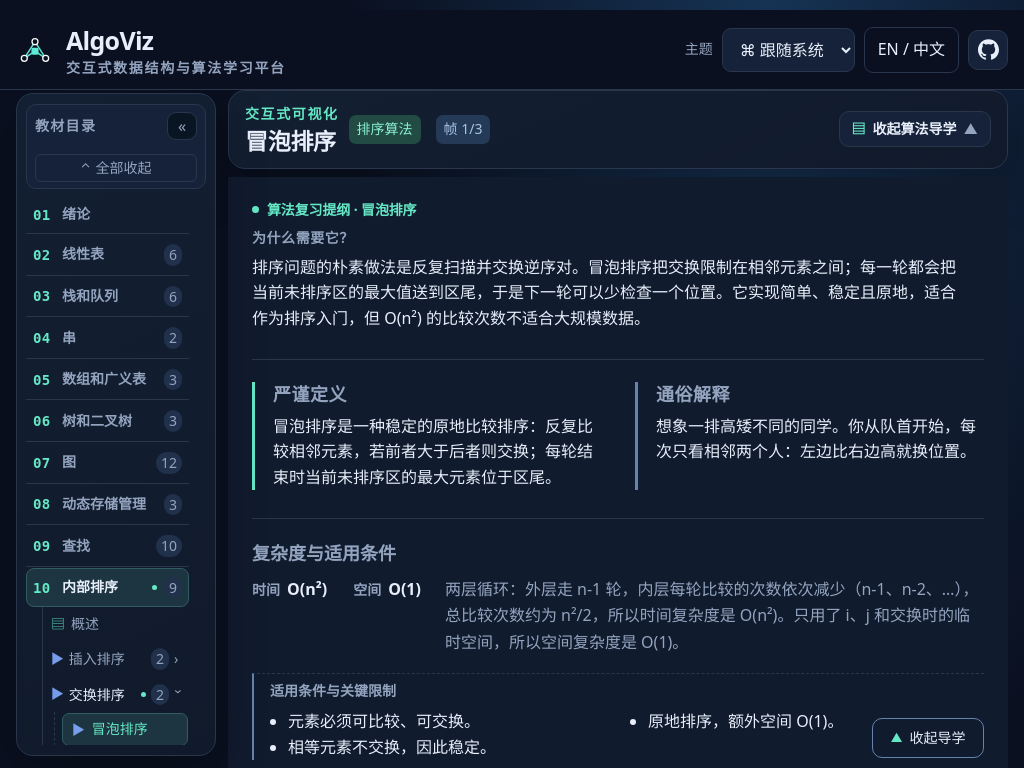
course navigation starts a fresh session › opens the guide for an unseen course and restores each course fold state
Later steps or results of the test are not shown.
Click the button with test id "guide-toggle": point(915, 129) [838,111,991,147]
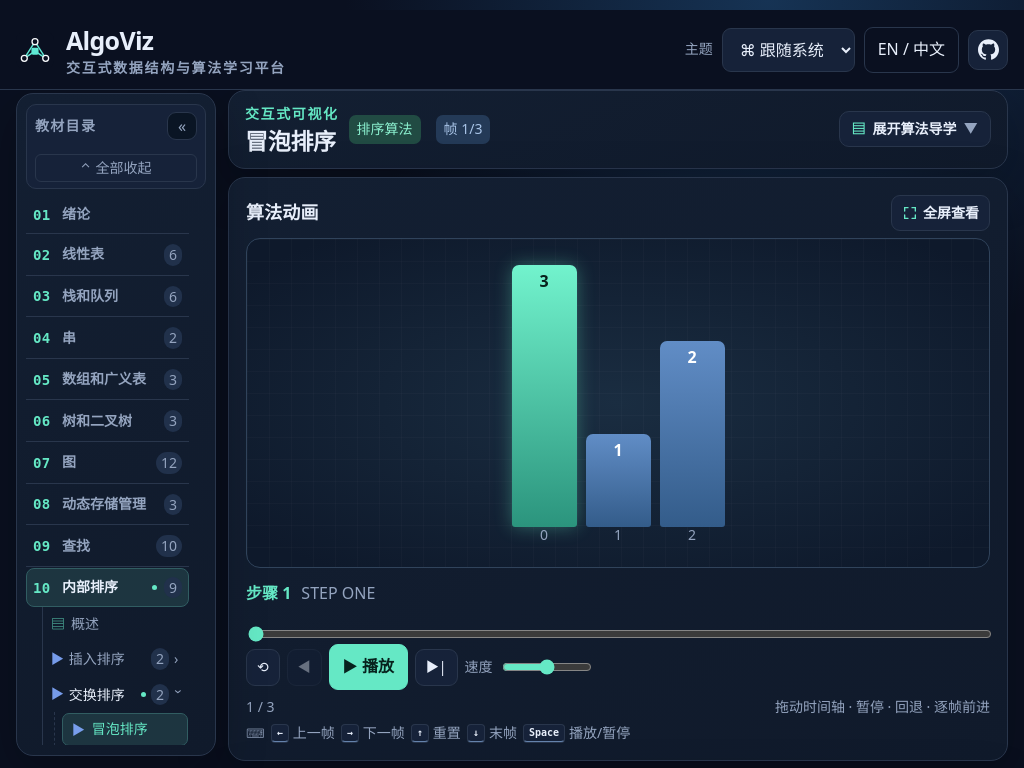
Expected: the button with test id "guide-toggle" is collapsed, [838,111,991,147]
